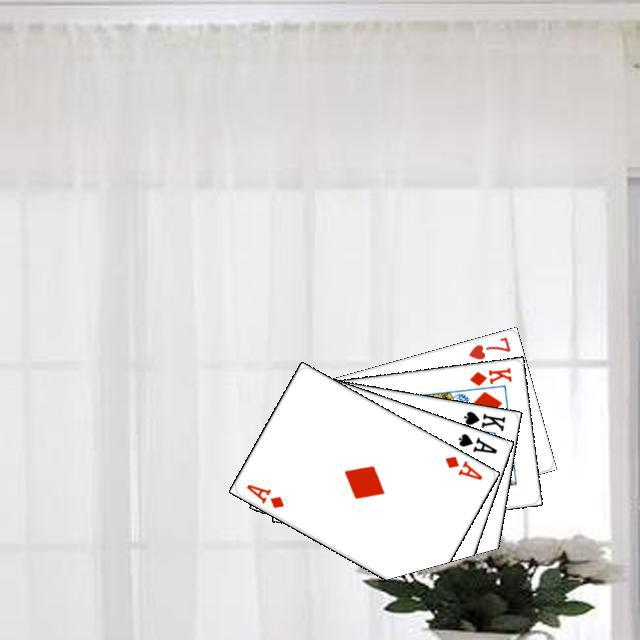7h: (464, 332, 512, 361)
Ad: (241, 479, 286, 510), (440, 451, 484, 482)
As: (453, 428, 499, 455)
Kd: (464, 362, 513, 387)
Ks: (459, 406, 507, 433)
